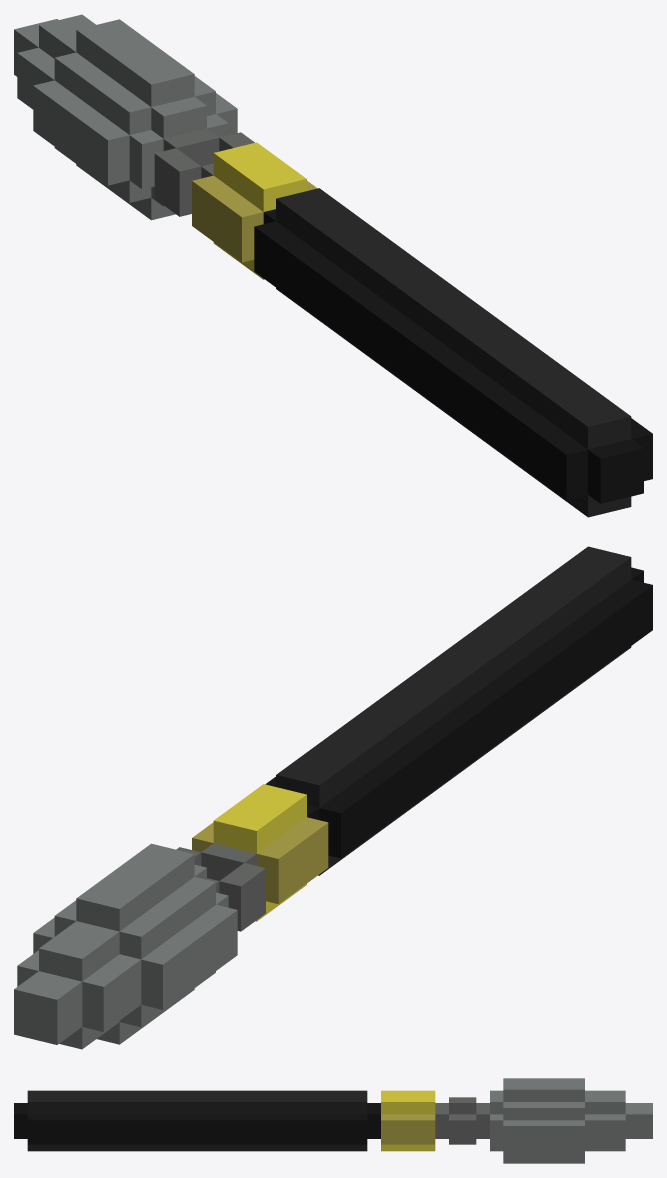
File: Spear.obj
The picture shows the model from 3 angles, top to bottom: view 1: azimuth 30°, elevation 25°; view 2: azimuth 150°, elevation 25°; view 3: azimuth 270°, elevation 25°; orthographic projection. The views are drawn at different scales.
Parts seen in each view (by area): view 1: Untitled.001; view 2: Untitled.001; view 3: Untitled.001.
Boxes of the visible parts, bbox=[...] form: Untitled.001: bbox=[14, 14, 652, 517]; Untitled.001: bbox=[14, 546, 652, 1049]; Untitled.001: bbox=[14, 1078, 652, 1163].
Size of the model in its own units: 1.2 by 1.2 by 9.4.
1 material, 1 textured.
